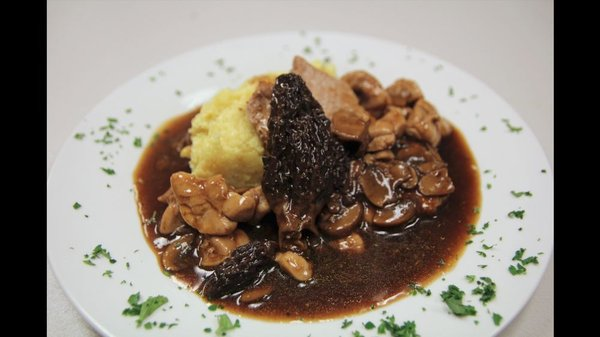curry: (20, 1, 554, 331)
